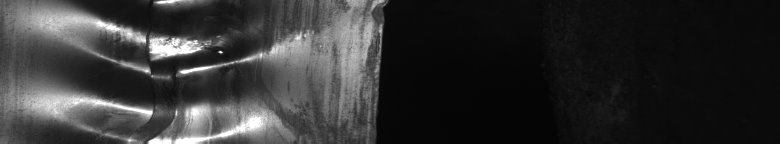ke: (55, 4, 362, 136)
